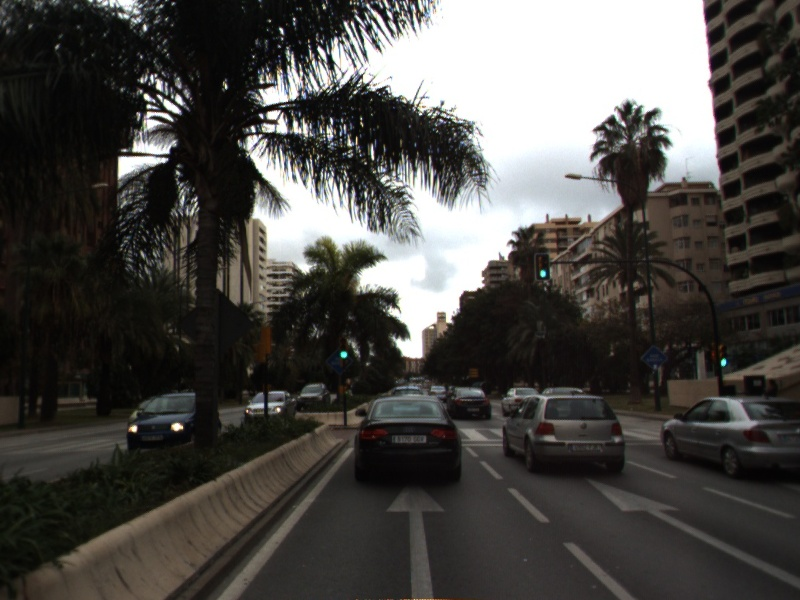STRAIGHT: (580, 474, 800, 587), (381, 482, 450, 600)
